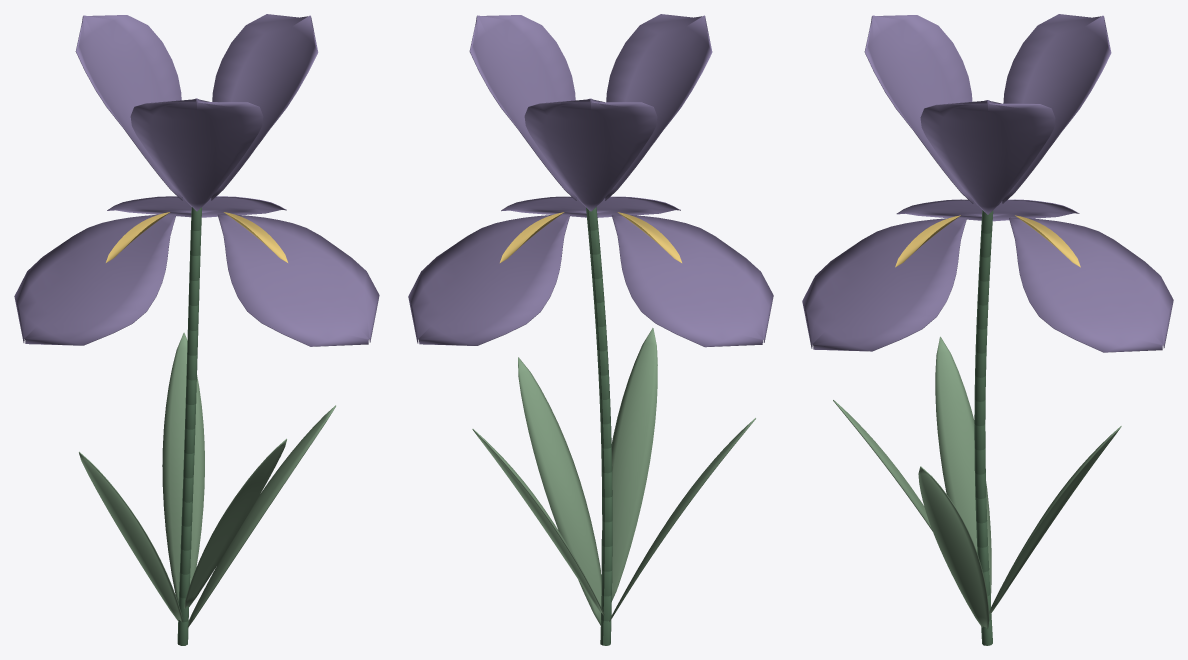
File: iris-legendary-v2.glb
3 renders of one model, left to right at view 1: azimuth 30°, elevation 25°; view 2: azimuth 150°, elevation 25°; view 3: azimuth 270°, elevation 25°, orthographic.
Parts seen in each view (by area): view 1: iris-legendary-v2-petal, iris-legendary-v2-leaf, iris-legendary-v2-stem, iris-legendary-v2-center; view 2: iris-legendary-v2-petal, iris-legendary-v2-leaf, iris-legendary-v2-stem, iris-legendary-v2-center; view 3: iris-legendary-v2-petal, iris-legendary-v2-leaf, iris-legendary-v2-stem, iris-legendary-v2-center.
Boxes of the visible parts, bbox=[...] form: iris-legendary-v2-petal: bbox=[14, 14, 379, 346]; iris-legendary-v2-leaf: bbox=[79, 332, 335, 627]; iris-legendary-v2-stem: bbox=[177, 207, 201, 645]; iris-legendary-v2-center: bbox=[106, 212, 287, 262]; iris-legendary-v2-petal: bbox=[408, 14, 773, 347]; iris-legendary-v2-leaf: bbox=[472, 328, 755, 625]; iris-legendary-v2-stem: bbox=[586, 207, 612, 645]; iris-legendary-v2-center: bbox=[500, 212, 681, 262]; iris-legendary-v2-petal: bbox=[802, 14, 1173, 352]; iris-legendary-v2-leaf: bbox=[833, 336, 1121, 628]; iris-legendary-v2-stem: bbox=[974, 210, 993, 645]; iris-legendary-v2-center: bbox=[895, 215, 1080, 267].
Bounding box in the file's own units: 1.15 × 2.19 × 1.21.
